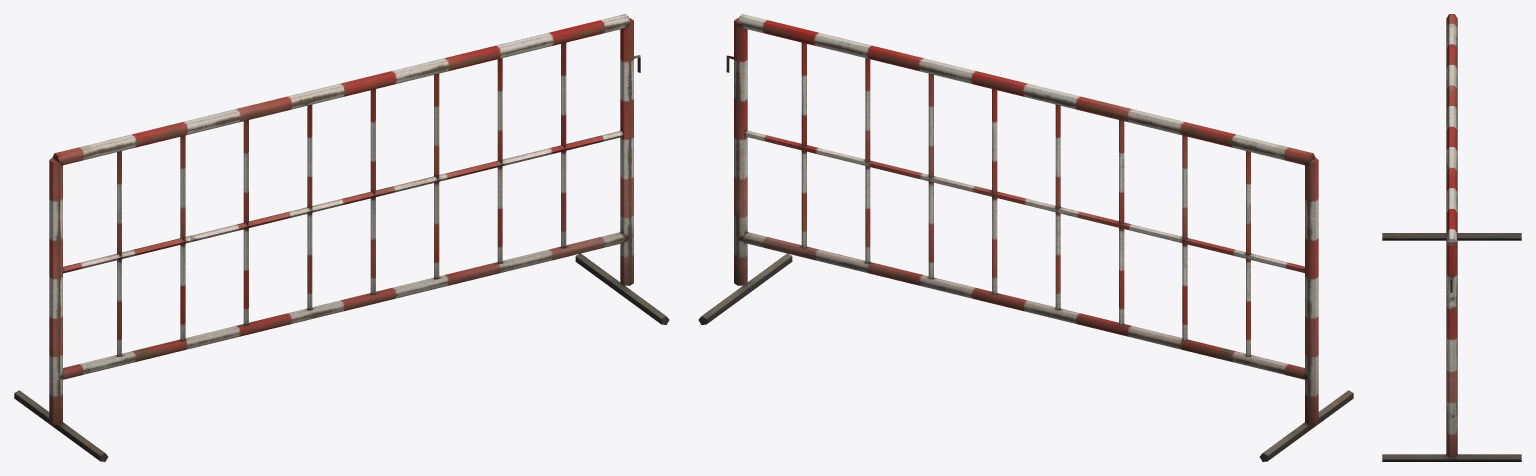
Rendered from barrier.glb.
The picture shows the model from 3 angles, left to right: view 1: azimuth 30°, elevation 25°; view 2: azimuth 150°, elevation 25°; view 3: azimuth 270°, elevation 25°; orthographic projection. The views are drawn at different scales.
Parts seen in each view (by area): view 1: body; view 2: body; view 3: body.
Part boxes in pixels (left/top/right/bottom): body: left=14, top=14, right=669, bottom=461; body: left=698, top=14, right=1353, bottom=461; body: left=1382, top=14, right=1521, bottom=461.
Size of the model in its own units: 2.38 by 1.07 by 0.6.
1 material, 1 textured.
